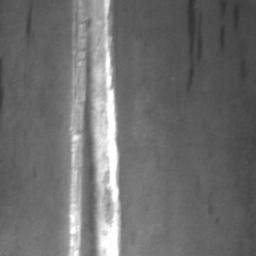Bright scratch: (69, 0, 122, 256)
